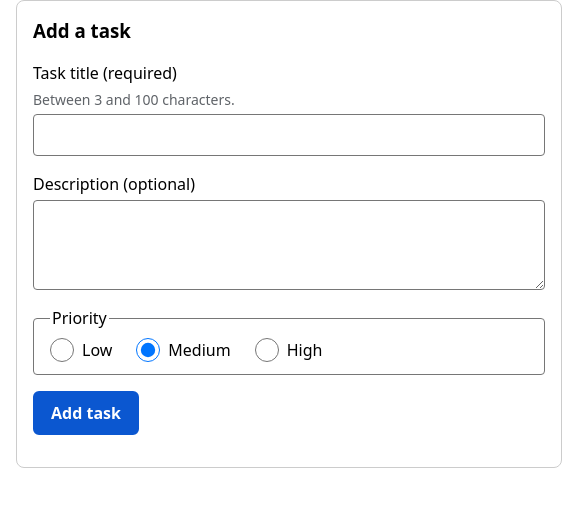
it: AddTaskForm validation › rejects a padded 2 character title: no task is added, the field is invalid, focused and described by the error
Type "  ab  " into the field labelled "Task title (required)" at point(289, 135), box [33,114,545,156]
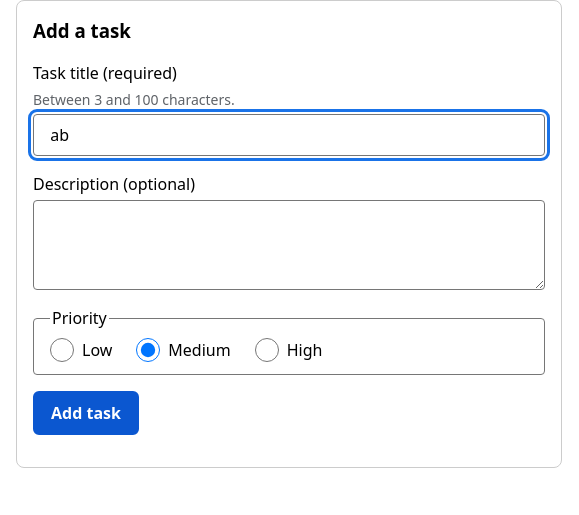
Click the button "Add task" at point(86, 413), box [33,391,139,435]
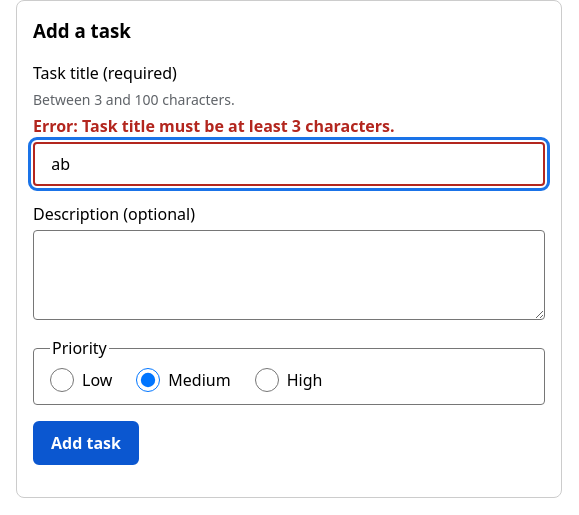
Result: the text "Error: Task title must be at least 3 characters." is shown at [33,115,395,137]
